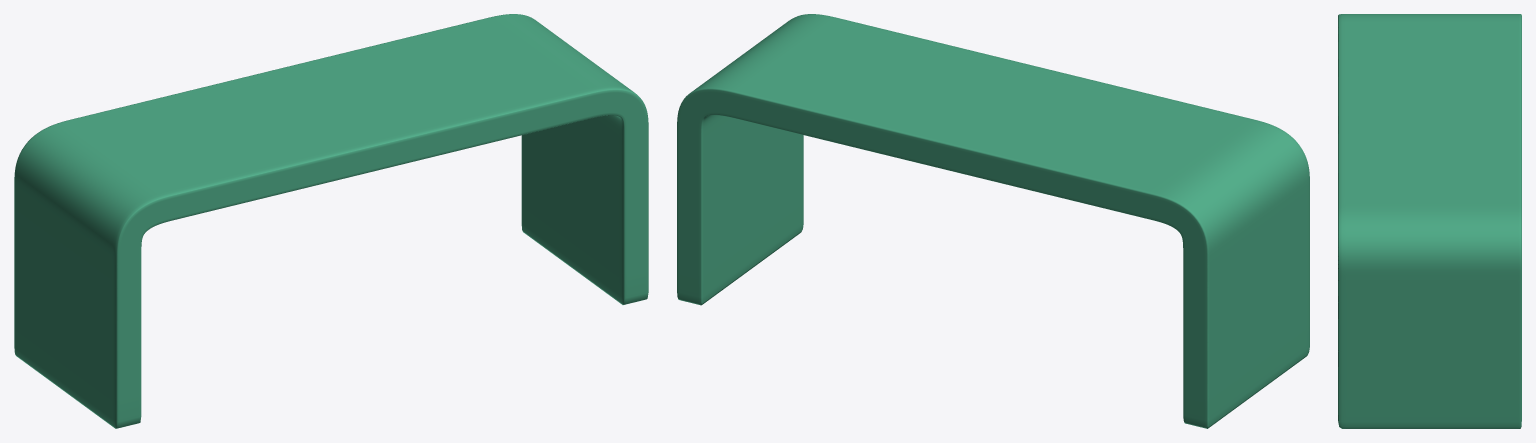
File: Desk.fbx
3 views of the same model, side by side, from view 1: azimuth 30°, elevation 25°; view 2: azimuth 150°, elevation 25°; view 3: azimuth 270°, elevation 25° (orthographic). The views are drawn at different scales.
Parts seen in each view (by area): view 1: Desk; view 2: Desk; view 3: Desk.
Part boxes in pixels (bbox=[...]): Desk: bbox=[14, 14, 648, 428]; Desk: bbox=[677, 14, 1309, 428]; Desk: bbox=[1338, 14, 1521, 428].
Size of the model in its own units: 8.37 by 3.34 by 2.8.
